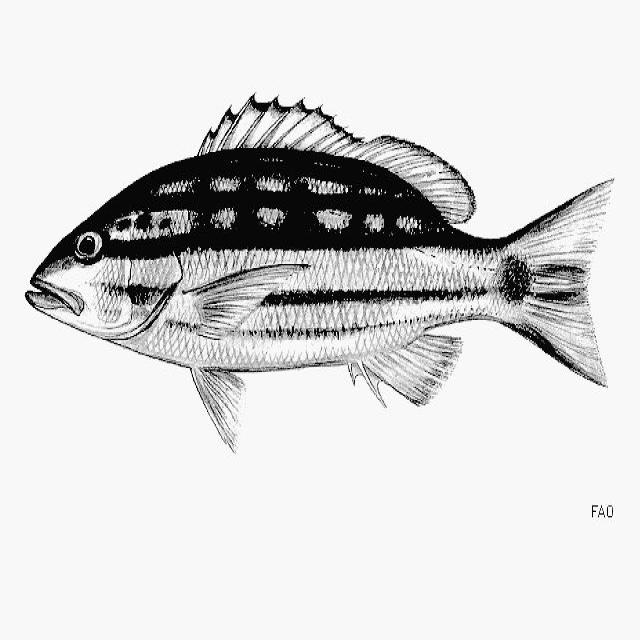ikan: (24, 89, 615, 452)
